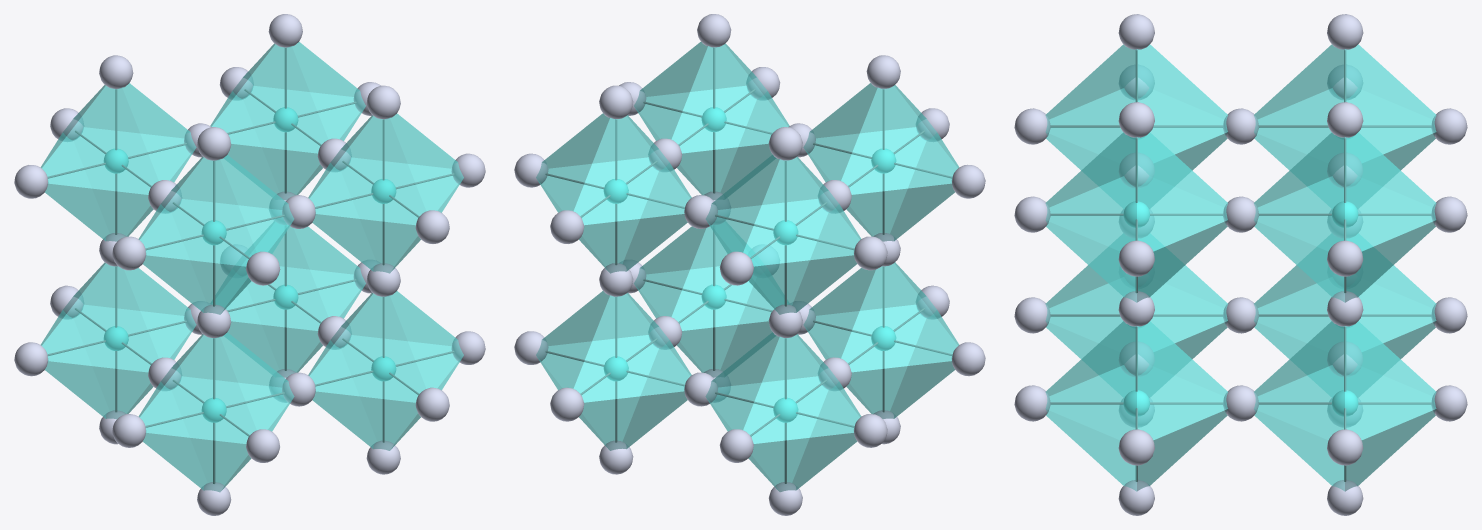
The model's file is ReO3-unit.glb.
3 renders of one model, left to right at view 1: azimuth 30°, elevation 25°; view 2: azimuth 150°, elevation 25°; view 3: azimuth 270°, elevation 25°, orthographic. The views are drawn at different scales.
Parts seen in each view (by area): view 1: Shape_IndexedFaceSet, atom1_IndexedFaceSet, Shape_Cylinder, atom0_IndexedFaceSet; view 2: Shape_IndexedFaceSet, atom1_IndexedFaceSet, Shape_Cylinder, atom0_IndexedFaceSet; view 3: Shape_IndexedFaceSet, atom1_IndexedFaceSet, Shape_Cylinder, atom0_IndexedFaceSet.
Boxes of the visible parts, box(x1,y1,x2,y2) form: Shape_IndexedFaceSet: box(40, 42, 463, 492); atom1_IndexedFaceSet: box(14, 14, 485, 515); Shape_Cylinder: box(47, 48, 454, 483); atom0_IndexedFaceSet: box(103, 107, 396, 422); Shape_IndexedFaceSet: box(536, 42, 959, 491); atom1_IndexedFaceSet: box(514, 14, 985, 515); Shape_Cylinder: box(545, 47, 952, 483); atom0_IndexedFaceSet: box(603, 107, 896, 422); Shape_IndexedFaceSet: box(1045, 44, 1436, 491); atom1_IndexedFaceSet: box(1014, 14, 1467, 515); Shape_Cylinder: box(1050, 50, 1431, 481); atom0_IndexedFaceSet: box(1123, 201, 1358, 416).
Size of the model in its own units: 8.34 by 8.33 by 8.34.
